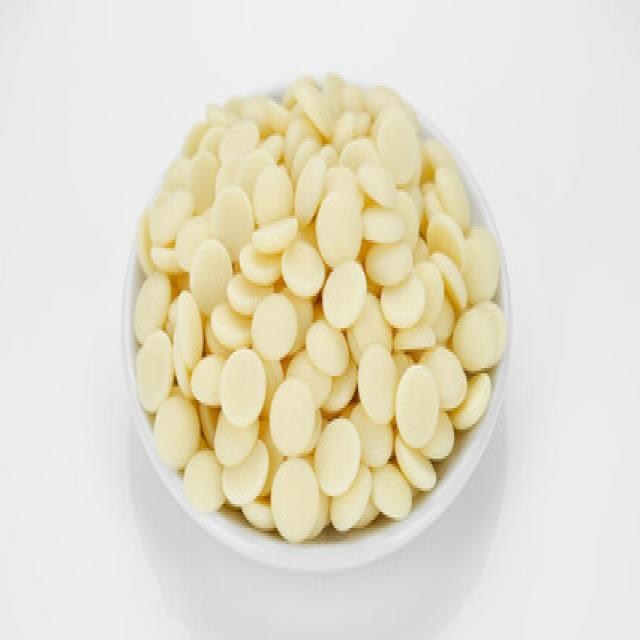Chocolate: (130, 68, 507, 544)
